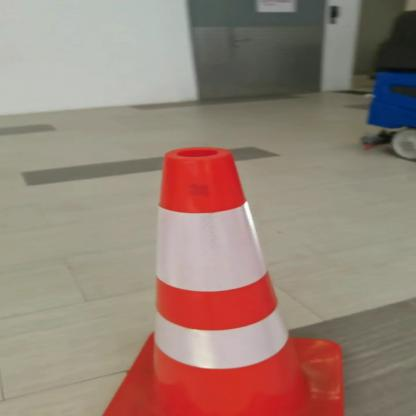cone: (93, 145, 352, 415)
